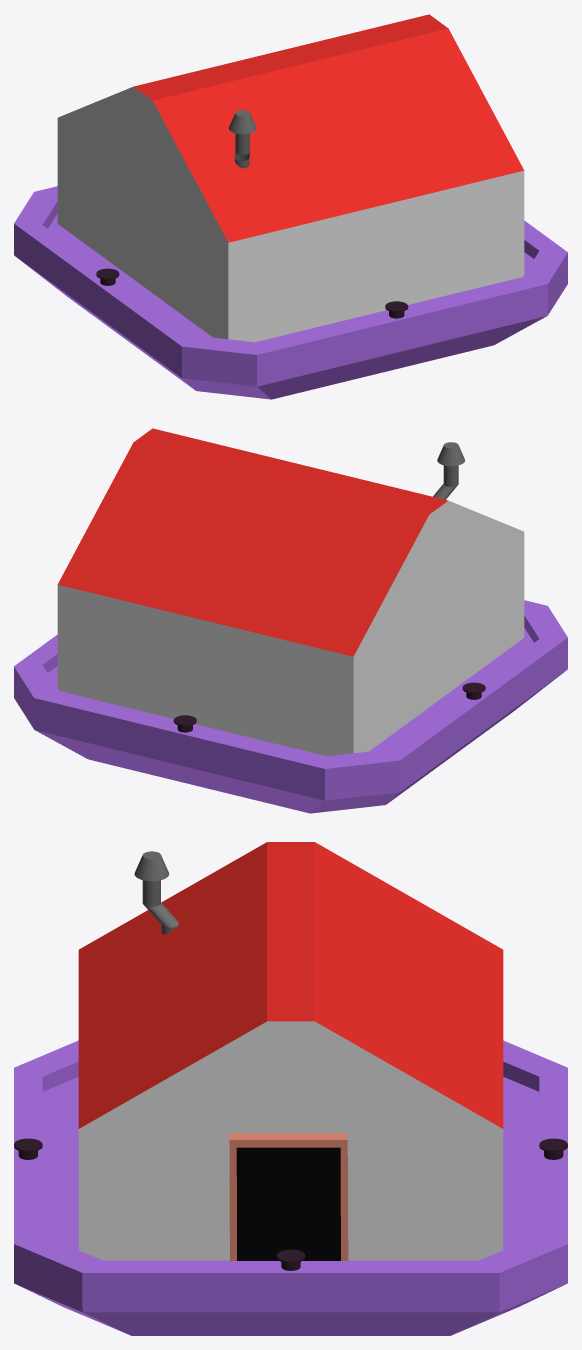
Rendered from House.fbx.
3 renders of one model, top to bottom at view 1: azimuth 30°, elevation 25°; view 2: azimuth 150°, elevation 25°; view 3: azimuth 270°, elevation 25°, orthographic. The views are drawn at different scales.
Visible parts, largest first — view 1: Wall, Roof, Barge, Cylinder, Cleat; view 2: Wall, Roof, Barge, Cylinder, Cleat; view 3: Roof, Wall, Barge, Door, DoorBorder, Cylinder, Cleat.
Boxes of the visible parts, left/top/right/bottom form: Wall: left=57, top=86, right=524, bottom=342; Roof: left=133, top=14, right=524, bottom=242; Barge: left=14, top=186, right=567, bottom=399; Cylinder: left=228, top=110, right=256, bottom=168; Cleat: left=96, top=268, right=408, bottom=318; Wall: left=57, top=500, right=524, bottom=756; Roof: left=57, top=428, right=448, bottom=656; Barge: left=14, top=600, right=567, bottom=813; Cylinder: left=433, top=442, right=464, bottom=499; Cleat: left=173, top=682, right=485, bottom=732; Roof: left=78, top=842, right=503, bottom=1128; Wall: left=78, top=1021, right=503, bottom=1260; Barge: left=14, top=1040, right=567, bottom=1335; Door: left=236, top=1147, right=340, bottom=1260; DoorBorder: left=229, top=1133, right=348, bottom=1260; Cylinder: left=134, top=851, right=178, bottom=934; Cleat: left=14, top=1138, right=567, bottom=1270.
Size of the model in its own units: 600 by 384 by 600.
